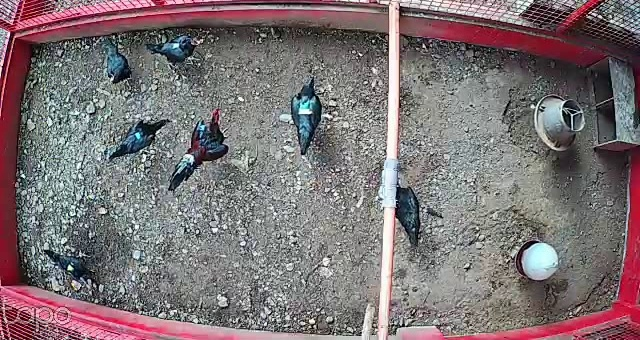Chicken: (286, 71, 325, 159), (104, 115, 173, 164), (394, 179, 429, 251), (145, 32, 203, 74), (98, 38, 140, 86), (43, 247, 98, 283)
Rooster: (163, 105, 233, 192)
Saddle_Color_Blue: (135, 130, 142, 139)
Saddle_Color_White: (173, 44, 180, 49)
Saddle_Color_Yellow: (66, 263, 76, 273)
Saddle_Color_YellowGreen: (298, 100, 311, 115)
